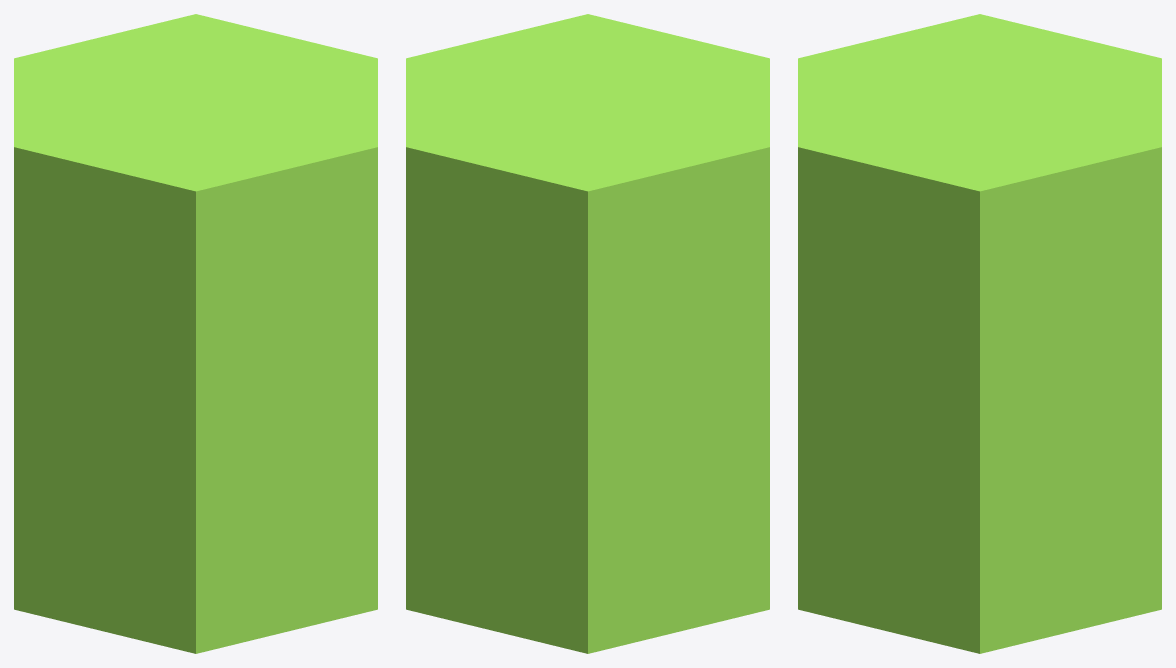
File: Prisma_Hexagonal.fbx
3 views of the same model, side by side, from view 1: azimuth 30°, elevation 25°; view 2: azimuth 150°, elevation 25°; view 3: azimuth 270°, elevation 25° (orthographic).
Parts seen in each view (by area): view 1: Model; view 2: Model; view 3: Model.
Boxes of the visible parts, left/top/right/bottom form: Model: left=14, top=14, right=377, bottom=653; Model: left=406, top=14, right=769, bottom=653; Model: left=798, top=14, right=1161, bottom=653.
Bounding box in the file's own units: 100 × 121 × 86.6.
